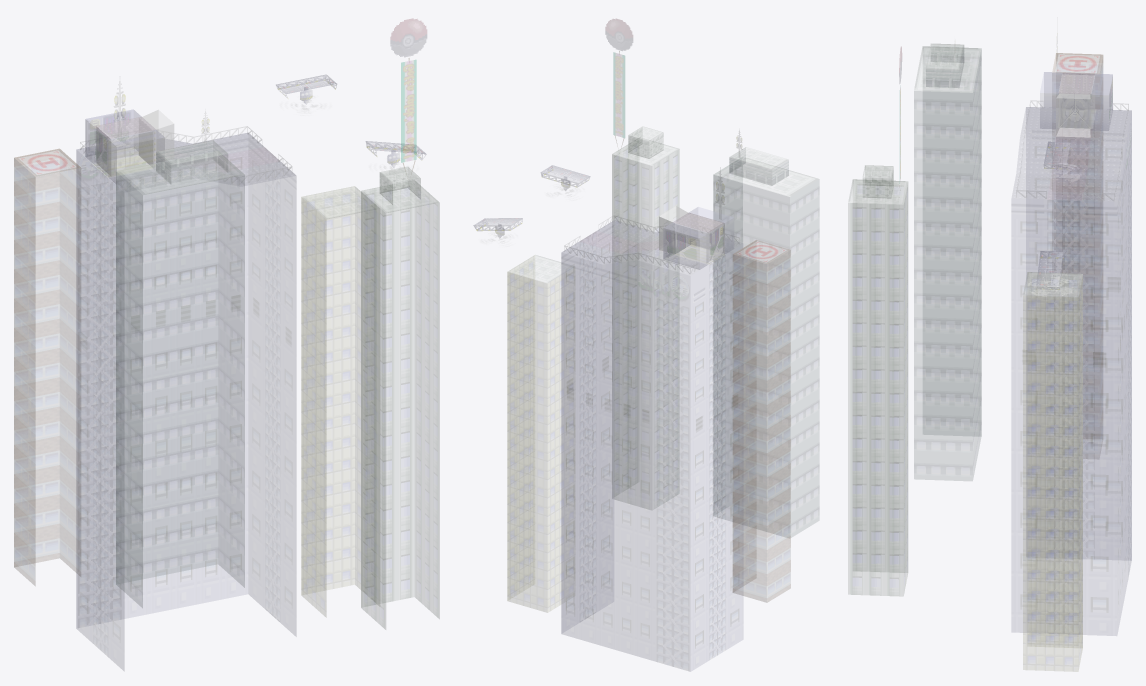
Rendered from city_lev3.glb.
The picture shows the model from 3 angles, left to right: view 1: azimuth 30°, elevation 25°; view 2: azimuth 150°, elevation 25°; view 3: azimuth 270°, elevation 25°; orthographic projection. The views are drawn at different scales.
Parts seen in each view (by area): view 1: city_lev3; view 2: city_lev3; view 3: city_lev3.
Part boxes in pixels (x1,y1,x2,y2): city_lev3: [14, 19, 439, 670]; city_lev3: [473, 19, 819, 671]; city_lev3: [848, 33, 1131, 671].
Size of the model in its own units: 48.18 by 78.21 by 32.95.
Materials: 56 (56 with a texture image).
